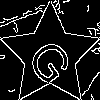G: (25, 30, 82, 89)
